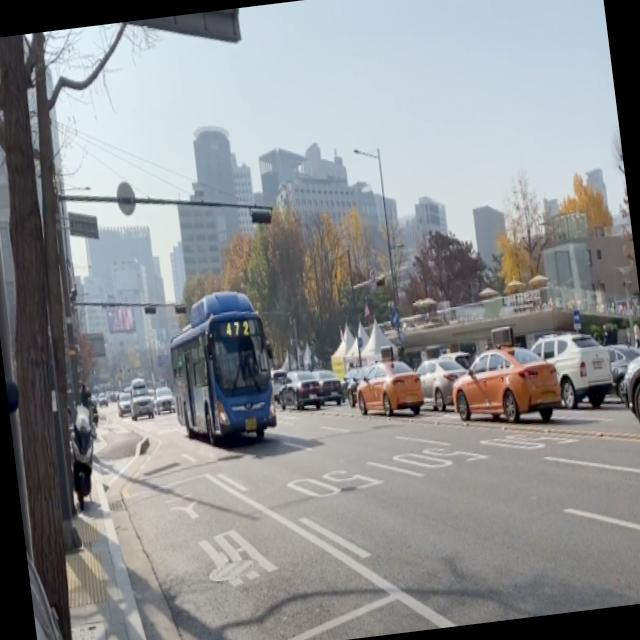bus-number: (223, 318, 250, 339)
